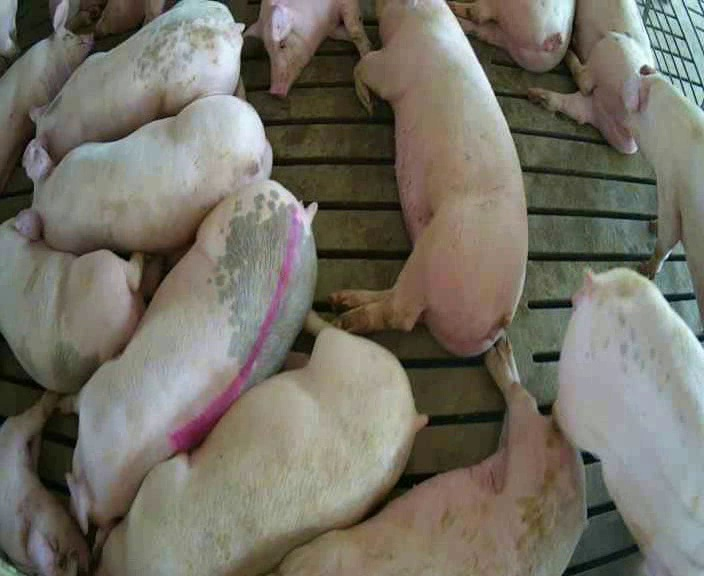pig: (56, 181, 316, 558), (99, 310, 424, 573), (279, 338, 585, 574), (332, 2, 527, 354), (555, 268, 703, 574), (16, 77, 271, 253), (30, 2, 242, 161), (619, 65, 703, 323), (529, 2, 654, 153), (0, 1, 92, 191), (0, 392, 89, 574), (244, 1, 375, 96), (449, 1, 574, 71)
